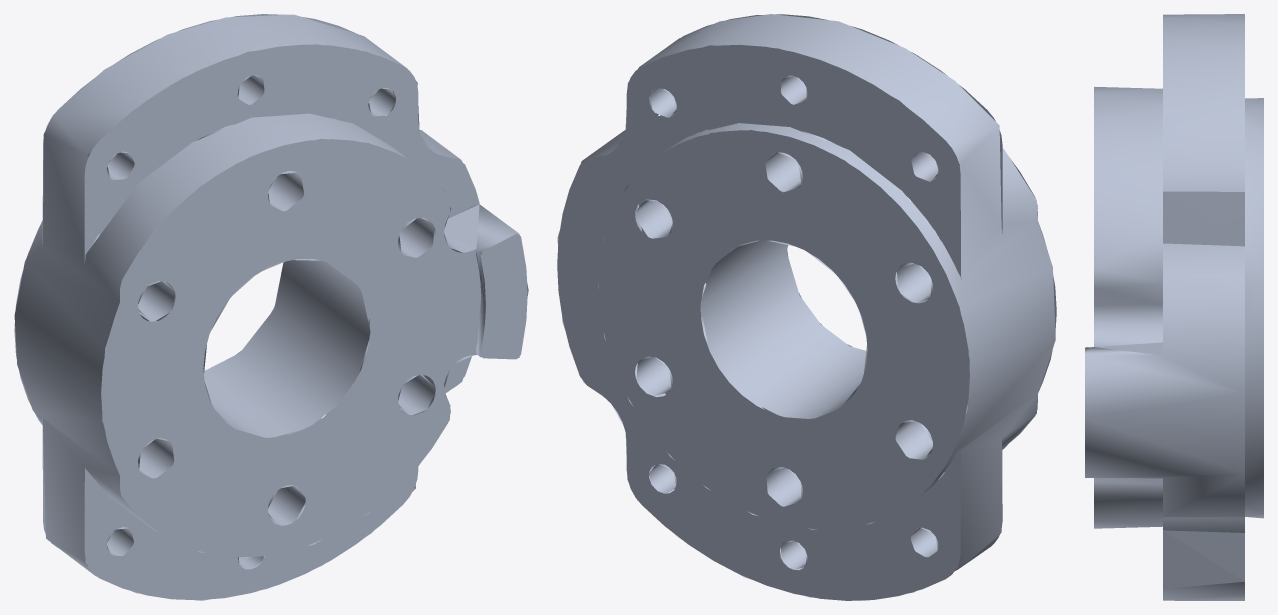
3 renders of one model, left to right at view 1: azimuth 30°, elevation 25°; view 2: azimuth 150°, elevation 25°; view 3: azimuth 270°, elevation 25°, orthographic. The views are drawn at different scales.
Visible parts, largest first — view 1: link5_01; view 2: link5_01; view 3: link5_01.
Boxes of the visible parts, x1=… form: link5_01: x1=14, y1=14, x2=528, y2=600; link5_01: x1=557, y1=14, x2=1056, y2=600; link5_01: x1=1085, y1=14, x2=1263, y2=600.
Bounding box in the file's own units: 0.038 × 0.0466 × 0.0142.
